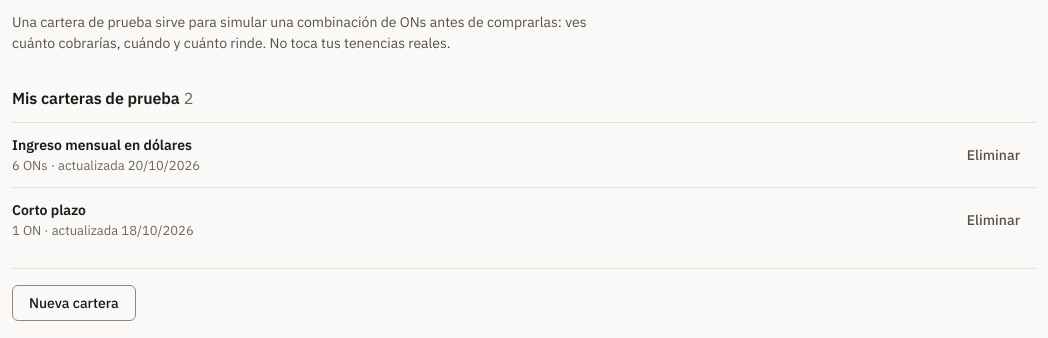
Test: PortfolioList — seen before at once, a delete without asking again (odd/tasks/rendimiento.md S9) › a deleted portfolio leaves the list without asking for it again
Click the button with aria-label "Eliminar Corto plazo": (993,220) [951,202,1036,238]
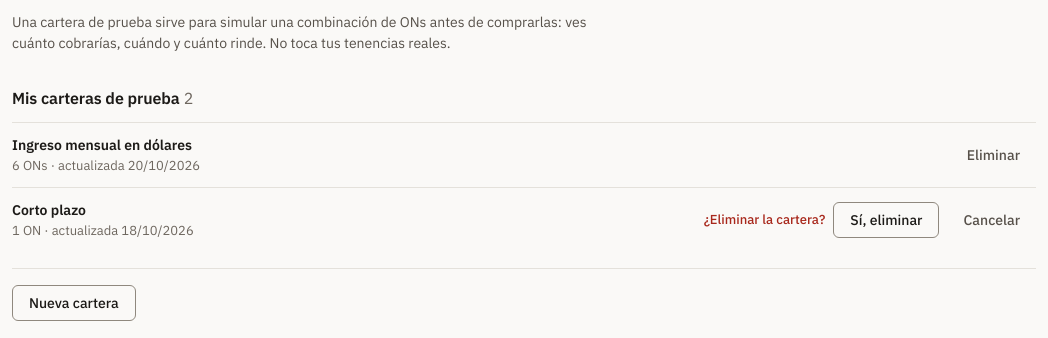
Click the button "Sí, eliminar": (886,220) [833,202,939,238]
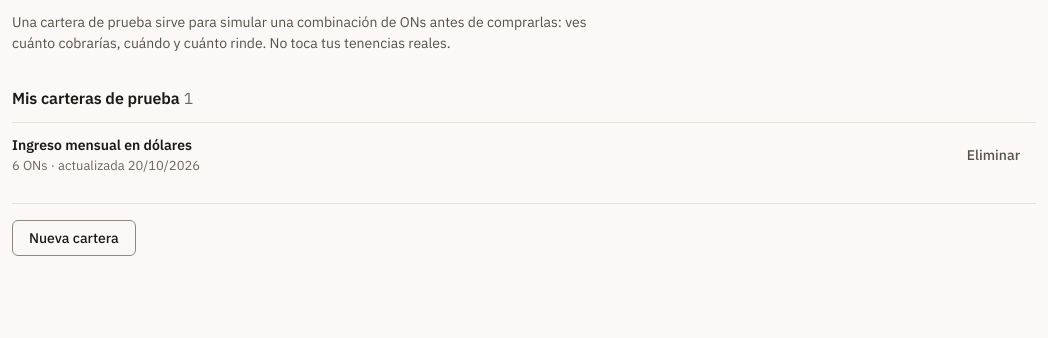
Check: the text "Ingreso mensual en dólares" is shown, box [12,136,192,154]
Check: the text "Corto plazo" is gone
